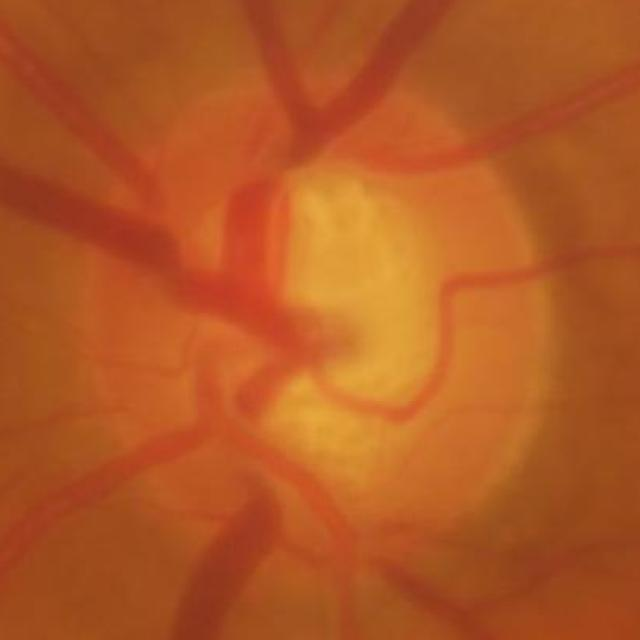OC: (202, 170, 452, 469)
OD: (61, 43, 552, 606)
